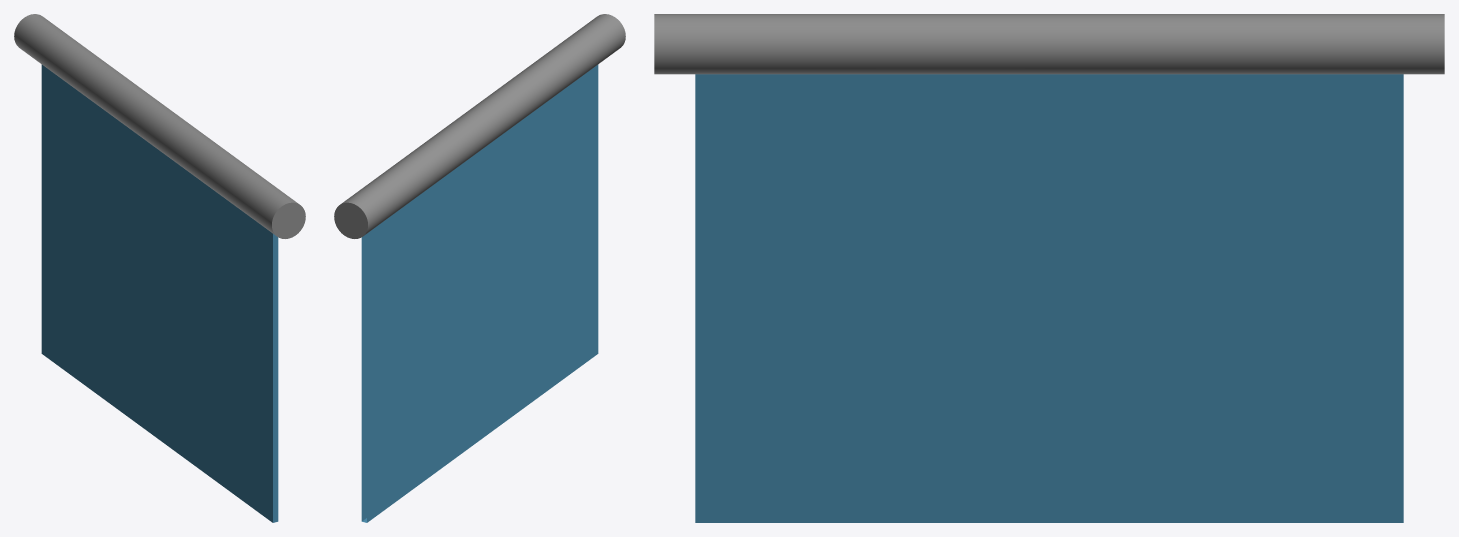
File: railing_glass.fbx
3 views of the same model, side by side, from view 1: azimuth 30°, elevation 25°; view 2: azimuth 150°, elevation 25°; view 3: azimuth 270°, elevation 25° (orthographic). The views are drawn at different scales.
Visible parts, largest first — view 1: Cube.004; view 2: Cube.004; view 3: Cube.004.
Boxes of the visible parts, x1,y1,x2,y2 form: Cube.004: [14, 14, 305, 522]; Cube.004: [334, 14, 625, 522]; Cube.004: [654, 14, 1444, 522].
Bounding box in the file's own units: 59.81 × 553 × 785.
1 material, 1 textured.
